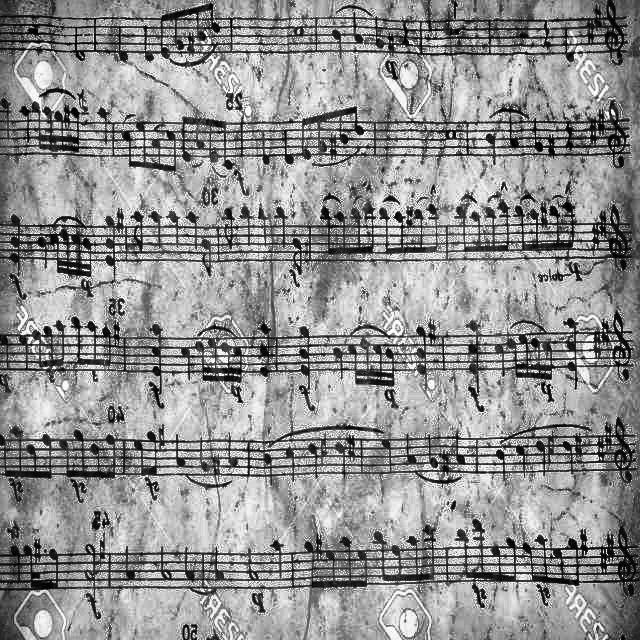Diez: (32, 536, 44, 564), (590, 329, 600, 358), (574, 429, 584, 458), (116, 206, 126, 234), (427, 318, 437, 346), (595, 435, 605, 463), (315, 532, 325, 560), (579, 526, 589, 554), (212, 453, 222, 479), (597, 547, 607, 573), (592, 220, 600, 252), (600, 205, 608, 237), (602, 316, 610, 348), (348, 432, 356, 464), (112, 318, 121, 346), (540, 201, 548, 231), (607, 531, 615, 561), (604, 420, 612, 448), (442, 448, 450, 476)
Eighth-note: (422, 520, 438, 582), (10, 422, 26, 478), (471, 516, 485, 578), (452, 526, 468, 580), (404, 530, 420, 582), (68, 312, 84, 364), (537, 530, 551, 582), (317, 204, 331, 256), (364, 198, 376, 258), (41, 428, 54, 482), (505, 531, 519, 581), (340, 533, 352, 591), (104, 432, 118, 481), (301, 542, 315, 590), (374, 529, 386, 585), (568, 532, 580, 588), (334, 210, 348, 256), (74, 426, 86, 478), (130, 438, 146, 477), (85, 318, 98, 366), (379, 204, 391, 256), (300, 110, 312, 162), (498, 198, 509, 254), (54, 316, 66, 366), (564, 200, 576, 250), (485, 205, 497, 255), (456, 203, 468, 253), (394, 207, 406, 257), (428, 201, 439, 255), (48, 547, 62, 589), (522, 540, 534, 588), (351, 202, 362, 254), (516, 200, 526, 256), (99, 323, 111, 369), (324, 546, 336, 590), (390, 540, 402, 584), (553, 544, 565, 588), (471, 210, 483, 254), (315, 110, 327, 154), (351, 94, 363, 138), (160, 9, 170, 61), (58, 436, 70, 479), (337, 104, 348, 148), (148, 426, 158, 474), (44, 320, 54, 368), (172, 6, 182, 54), (194, 2, 206, 42), (201, 237, 213, 276), (90, 441, 102, 479), (292, 237, 304, 275), (357, 548, 368, 588), (491, 542, 502, 582), (551, 206, 561, 250), (529, 208, 539, 252), (415, 208, 425, 252), (27, 442, 39, 478), (0, 429, 8, 479), (210, 0, 222, 32), (34, 328, 42, 372)
Full-note: (288, 20, 308, 42)
Full-rest: (445, 24, 463, 40)
Half-note: (67, 23, 87, 63), (244, 545, 262, 581), (157, 546, 170, 582)
Half-rest: (26, 20, 42, 40), (516, 22, 532, 42)
Quarter-note: (296, 316, 316, 384), (254, 314, 274, 378), (8, 208, 26, 272), (464, 315, 481, 381), (564, 313, 580, 381), (410, 322, 426, 386), (151, 314, 163, 382), (102, 215, 116, 273), (184, 206, 200, 250), (273, 198, 287, 246), (114, 26, 130, 66), (148, 210, 164, 250), (239, 202, 253, 246), (256, 128, 272, 166), (424, 432, 440, 470), (166, 205, 180, 247), (271, 536, 285, 578), (280, 128, 296, 164), (0, 90, 12, 138), (180, 546, 196, 582), (372, 15, 388, 50), (141, 22, 155, 62), (7, 542, 21, 582), (172, 433, 188, 467), (122, 545, 138, 579), (256, 202, 268, 246), (350, 14, 366, 46), (19, 102, 31, 144), (197, 438, 211, 474), (213, 546, 227, 582), (562, 28, 576, 64), (98, 104, 110, 144), (260, 453, 274, 487), (404, 432, 418, 466), (532, 115, 544, 154), (284, 444, 296, 482), (306, 441, 318, 479), (334, 441, 346, 479), (534, 439, 546, 477), (486, 130, 498, 167), (0, 329, 12, 366), (508, 114, 520, 150), (381, 436, 393, 472), (454, 428, 466, 464), (494, 448, 506, 484), (514, 444, 526, 480), (561, 439, 573, 475), (332, 27, 344, 62), (226, 432, 238, 466), (19, 331, 29, 369)
Quarter-rest: (542, 17, 554, 51), (400, 22, 412, 50)
Sixteenth-note: (506, 336, 520, 379), (360, 335, 372, 385), (519, 330, 531, 378), (530, 334, 542, 382), (232, 340, 245, 384), (32, 98, 42, 154), (346, 344, 358, 388), (542, 338, 554, 382), (194, 341, 206, 383), (71, 227, 81, 277), (209, 333, 219, 382), (61, 228, 71, 276), (71, 106, 81, 154), (373, 341, 383, 385), (386, 346, 396, 390), (221, 339, 231, 381), (45, 106, 53, 154), (56, 108, 64, 156), (84, 236, 92, 276)
